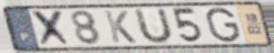5: (171, 6, 204, 45)
8: (69, 9, 102, 46)
G: (204, 6, 242, 44)
K: (102, 9, 138, 44)
U: (134, 7, 175, 46)
X: (30, 9, 75, 48)
